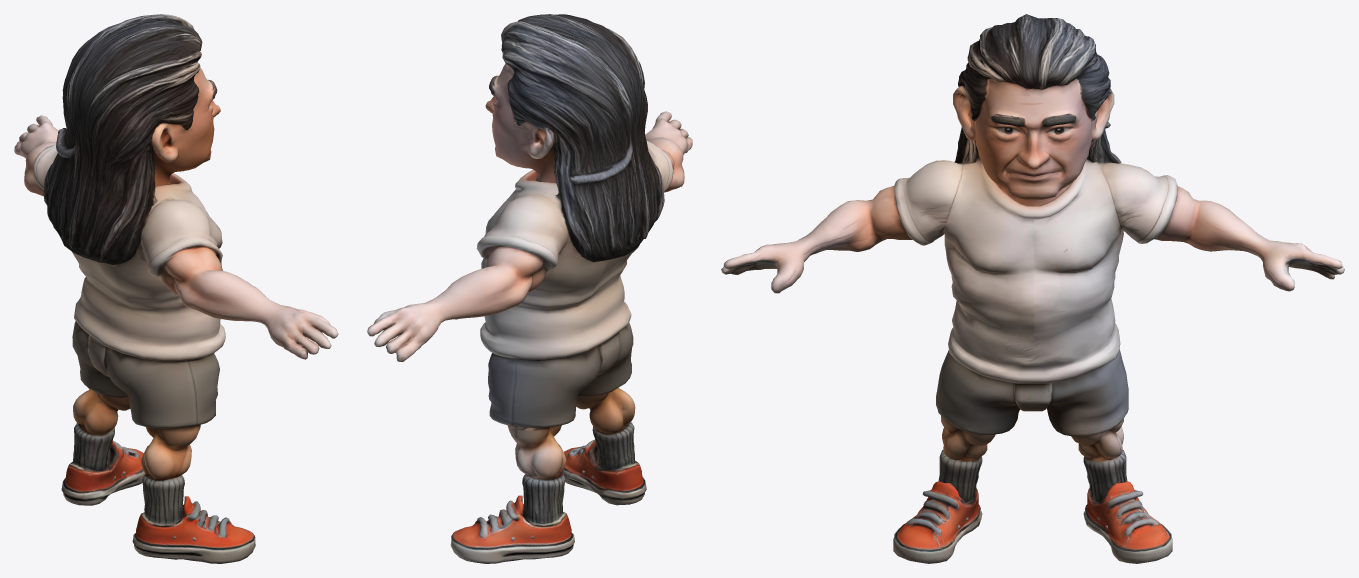
The picture shows the model from 3 angles, left to right: view 1: azimuth 30°, elevation 25°; view 2: azimuth 150°, elevation 25°; view 3: azimuth 270°, elevation 25°; orthographic projection. The views are drawn at different scales.
Visible parts, largest first — view 1: tripo_node_cf85d643; view 2: tripo_node_cf85d643; view 3: tripo_node_cf85d643.
Boxes of the visible parts, <box> form: tripo_node_cf85d643: <box>14,14,338,563</box>; tripo_node_cf85d643: <box>367,14,692,563</box>; tripo_node_cf85d643: <box>721,14,1344,563</box>.
Bounding box in the file's own units: 29.94 × 91.39 × 100.
Materials: 1 (1 with a texture image).
